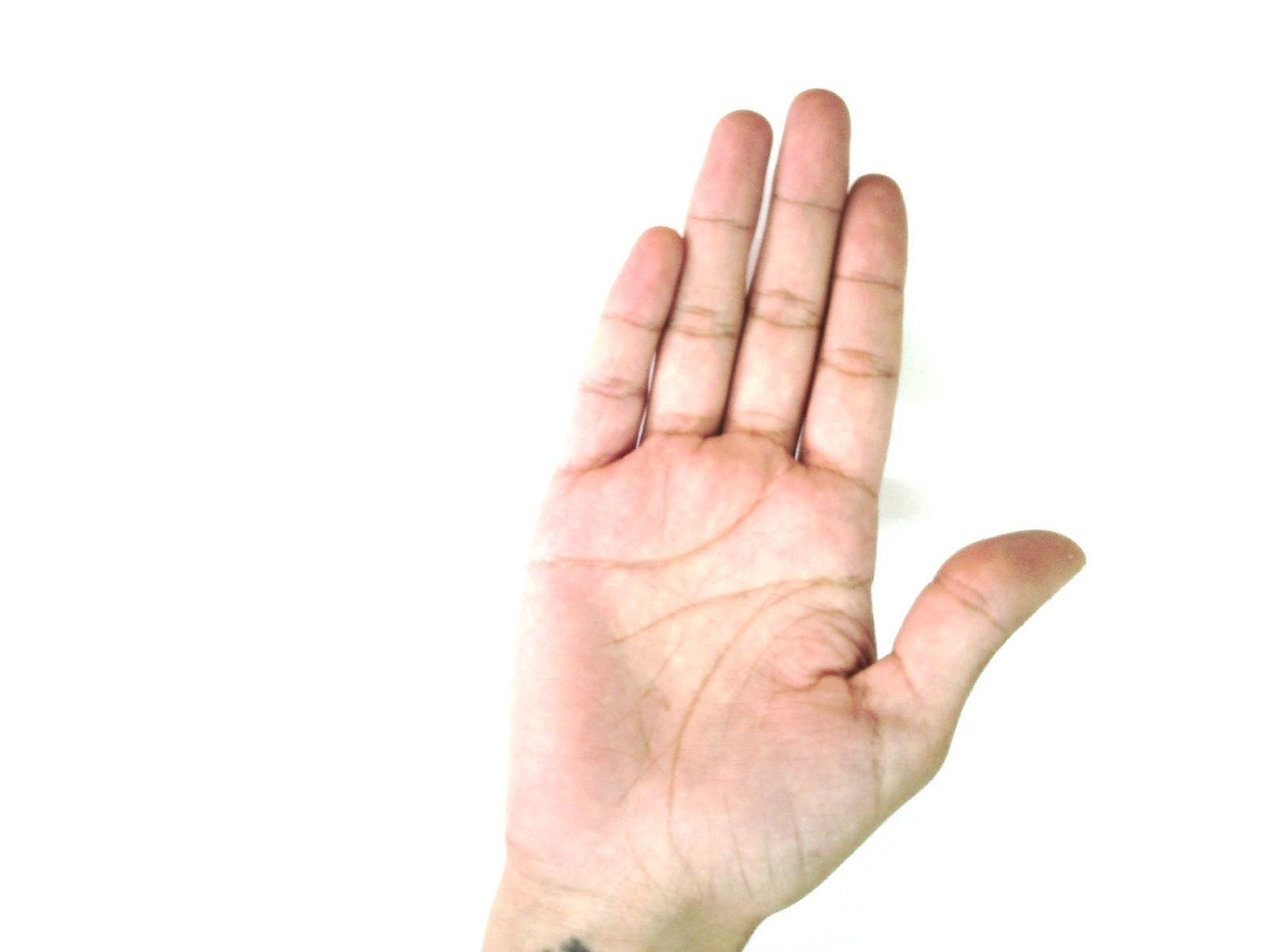open_palm: (478, 87, 1089, 950)
